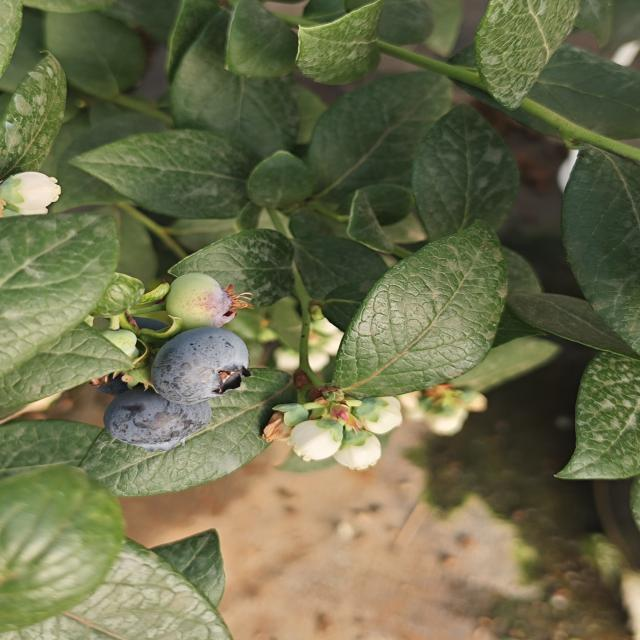ripe: (146, 324, 256, 402), (101, 388, 225, 456)
